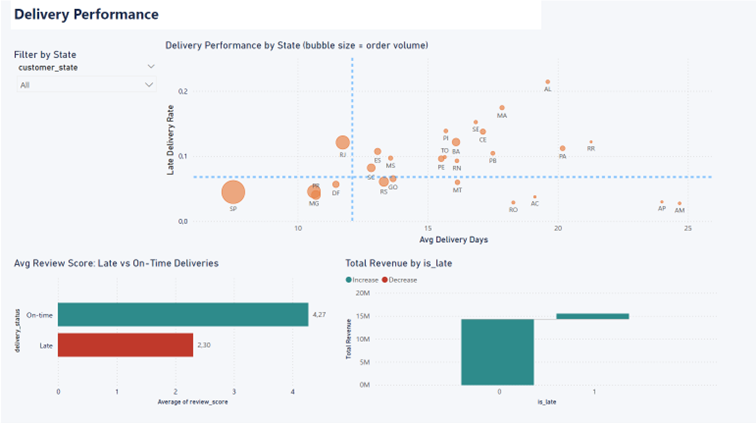

Layout of this report page (visuals, bound fields, positions):
{"tool":"powerbi","page":{"name":"Delivery Performance","canvas":[1280,720],"ordinal":1},"visuals":[{"type":"slicer","title":"Filter by State","fields":{"Values":["olist_powerbi_export.customer_state"]},"box":[16,64,256,96],"z":0},{"type":"scatterChart","title":"Delivery Performance by State (bubble size = order volume)","fields":{"Category":["olist_powerbi_export.customer_state"],"X":["olist_powerbi_export.Avg Delivery Days (On-Time)"],"Y":["olist_powerbi_export.Late Delivery Rate"],"Size":["olist_powerbi_export.Total Orders"]},"box":[272,64,976,352],"z":1000},{"type":"waterfallChart","fields":{"Category":["olist_powerbi_export.is_late"],"Y":["olist_powerbi_export.Total Revenue"]},"box":[576,432,640,256],"z":2000},{"type":"textbox","box":[20,10,900,40],"z":3000},{"type":"clusteredBarChart","title":"Avg Review Score: Late vs On-Time Deliveries","fields":{"Y":["Avg(olist_powerbi_export.review_score)"],"Category":["olist_powerbi_export.delivery_status"]},"box":[16,432,544,256],"z":4000}]}

Visuals, with their boxes in screenshot pixels (x1, y1, x2, y2), scaled from the page's 1280x720 canvas onto the 756x423 screenshot:
"Filter by State" slicer: (9, 38, 161, 94)
"Delivery Performance by State (bubble size = order volume)" scatterChart: (161, 38, 737, 244)
waterfallChart - olist_powerbi_export.is_late x olist_powerbi_export.Total Revenue: (340, 254, 718, 404)
textbox: (12, 6, 543, 29)
"Avg Review Score: Late vs On-Time Deliveries" clusteredBarChart: (9, 254, 331, 404)
